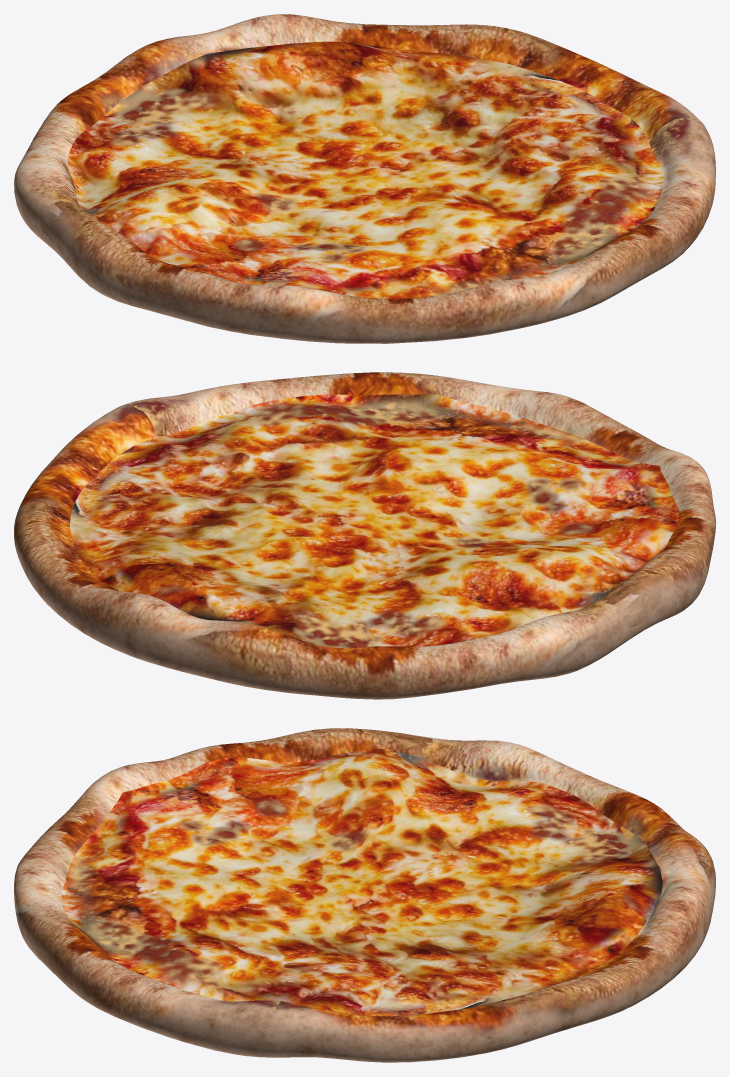
File: pizza.glb
3 views of the same model, one above another, from view 1: azimuth 30°, elevation 25°; view 2: azimuth 150°, elevation 25°; view 3: azimuth 270°, elevation 25° (orthographic).
Parts seen in each view (by area): view 1: piza_low_01:Group259; view 2: piza_low_01:Group259; view 3: piza_low_01:Group259.
Boxes of the visible parts, x1,y1,x2,y2 form: piza_low_01:Group259: (14,14,715,343); piza_low_01:Group259: (14,372,715,699); piza_low_01:Group259: (14,728,715,1062).
Bounding box in the file's own units: 0.6344 × 0.0631 × 0.6326.
Materials: 1 (1 with a texture image).
